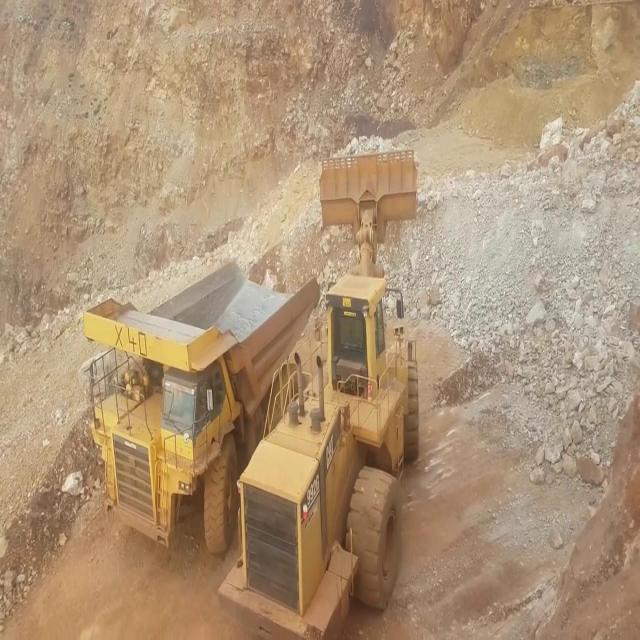Dump Truck: (79, 249, 323, 562)
Loader: (215, 149, 419, 639)
